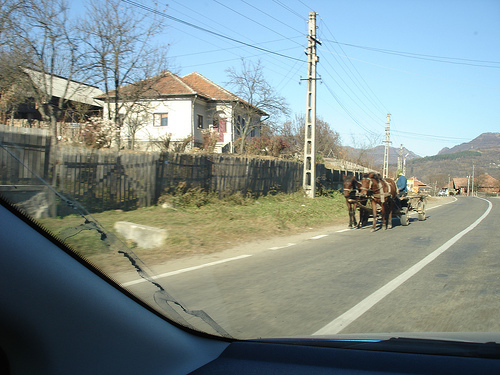horse: (356, 169, 397, 233), (340, 171, 370, 230)
